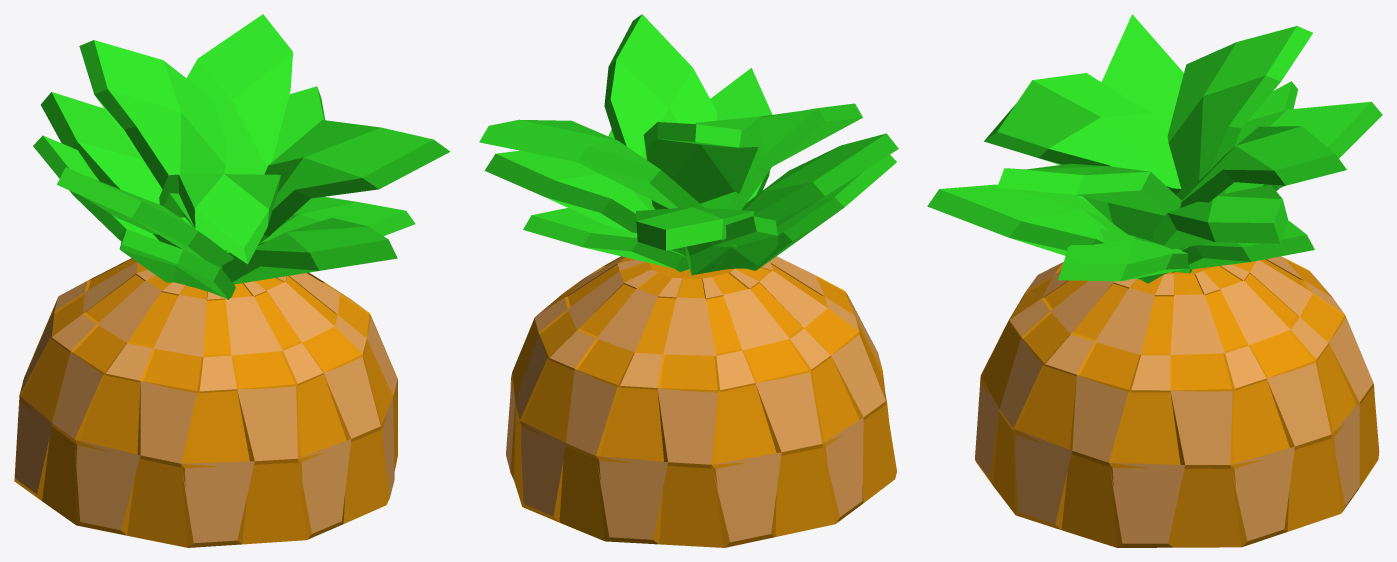
File: model_ananas.gltf
3 views of the same model, side by side, from view 1: azimuth 30°, elevation 25°; view 2: azimuth 150°, elevation 25°; view 3: azimuth 270°, elevation 25° (orthographic). The views are drawn at different scales.
Parts seen in each view (by area): view 1: model_ananas; view 2: model_ananas; view 3: model_ananas.
Part boxes in pixels (<box>): model_ananas: <box>14,14,450,547</box>; model_ananas: <box>479,14,898,547</box>; model_ananas: <box>927,14,1382,547</box>.
Size of the model in its own units: 0.468 by 0.5342 by 0.5326.
